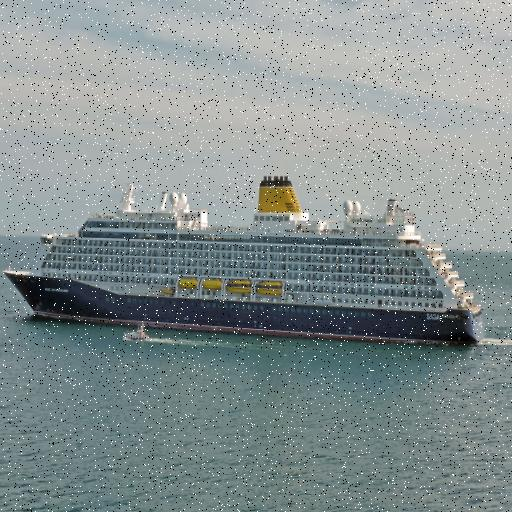cruises: (1, 168, 489, 355)
